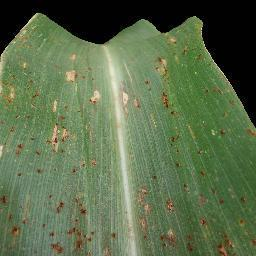Corn_Common_Rust: (0, 6, 47, 157), (48, 98, 89, 256), (127, 183, 159, 256), (145, 53, 182, 116), (182, 14, 216, 70), (57, 45, 94, 89), (161, 196, 187, 256), (117, 78, 146, 120), (200, 82, 240, 110), (7, 215, 46, 238), (90, 228, 122, 256), (195, 186, 225, 209), (215, 229, 238, 256), (163, 31, 179, 50), (187, 231, 199, 256), (89, 89, 103, 107), (208, 125, 227, 138), (193, 215, 212, 227), (164, 130, 179, 145), (33, 164, 49, 178), (244, 122, 256, 140), (235, 215, 247, 230), (195, 168, 210, 180), (89, 152, 99, 169), (179, 181, 192, 194), (0, 194, 11, 208), (171, 159, 183, 171), (238, 193, 249, 206), (12, 169, 26, 178), (246, 236, 256, 247), (147, 172, 159, 181), (195, 148, 206, 156)
